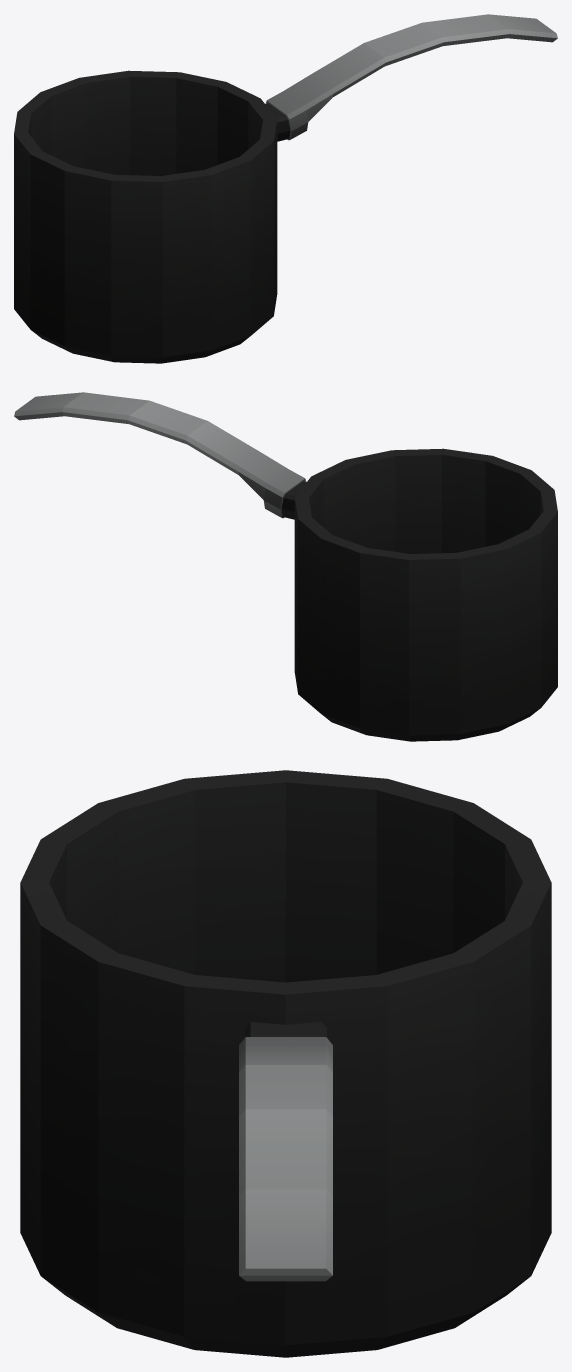
The model's file is Cooking_Pot.fbx.
3 views of the same model, one above another, from view 1: azimuth 30°, elevation 25°; view 2: azimuth 150°, elevation 25°; view 3: azimuth 270°, elevation 25° (orthographic). The views are drawn at different scales.
Parts seen in each view (by area): view 1: Cooking_Pot; view 2: Cooking_Pot; view 3: Cooking_Pot.
Boxes of the visible parts, x1,y1,x2,y2 form: Cooking_Pot: (14, 14, 557, 363); Cooking_Pot: (14, 392, 557, 741); Cooking_Pot: (20, 770, 551, 1357).
Size of the model in its own units: 51.42 by 20.34 by 22.92.
